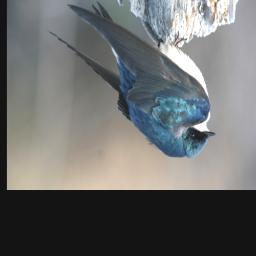Swallow: (47, 1, 215, 159)
